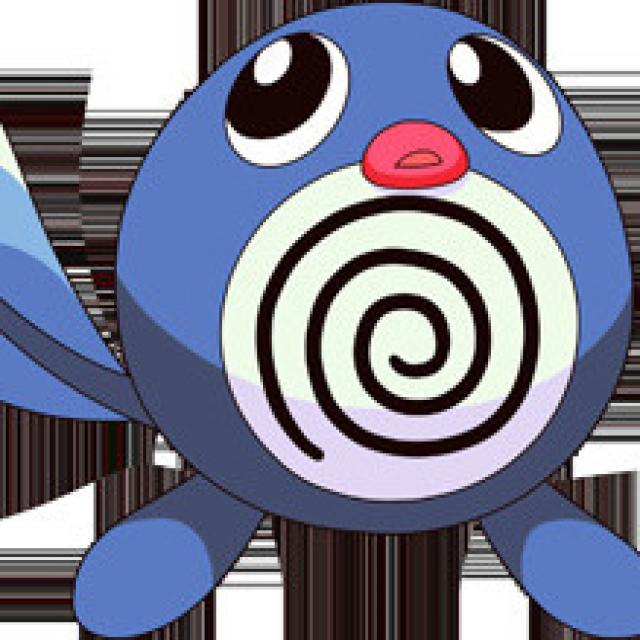Poliwag: (110, 3, 637, 626)
